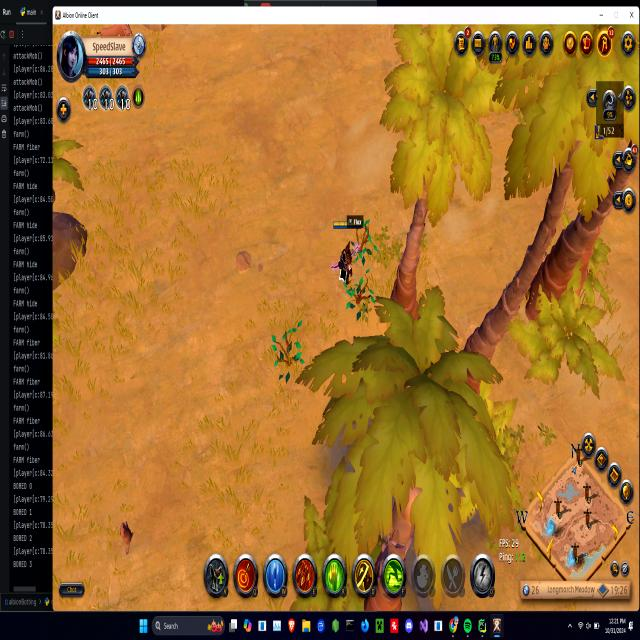red: (331, 217, 363, 290)
